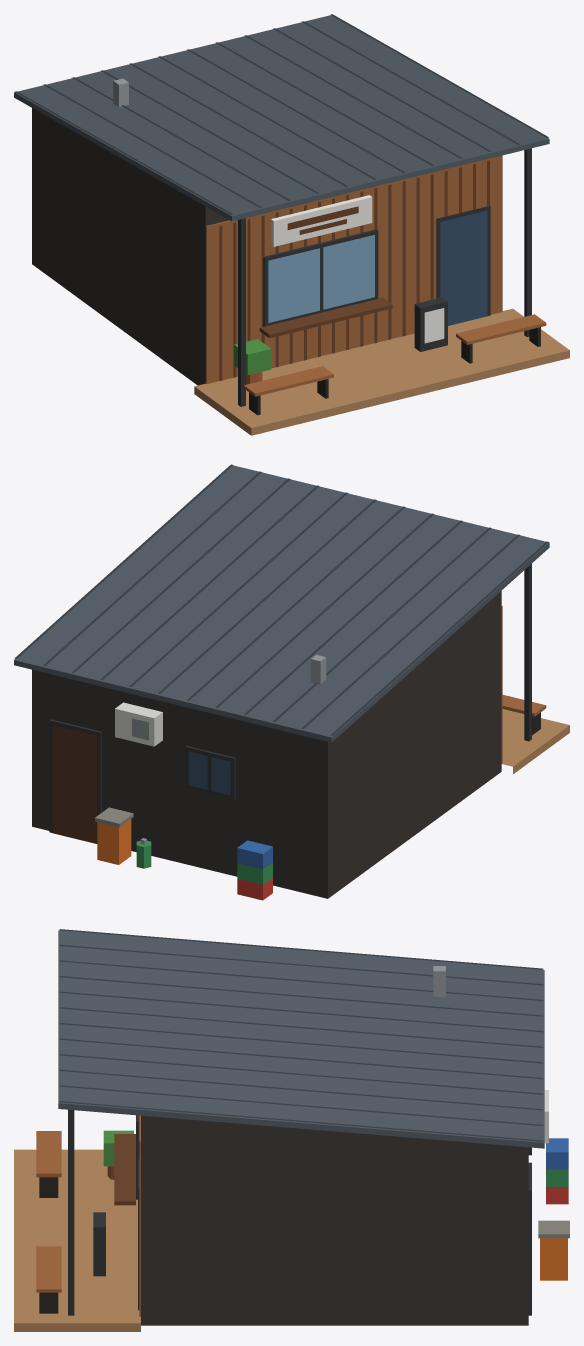
Rendered from toko_11.glb.
The picture shows the model from 3 angles, top to bottom: view 1: azimuth 30°, elevation 25°; view 2: azimuth 150°, elevation 25°; view 3: azimuth 270°, elevation 25°; orthographic projection. The views are drawn at different scales.
Visible parts, largest first — view 1: toko_11; view 2: toko_11; view 3: toko_11.
Part boxes in pixels (x1,y1,x2,y2): toko_11: (14, 14, 569, 435); toko_11: (14, 464, 569, 900); toko_11: (14, 929, 569, 1331).
Size of the model in its own units: 6.46 by 3.99 by 8.75.
